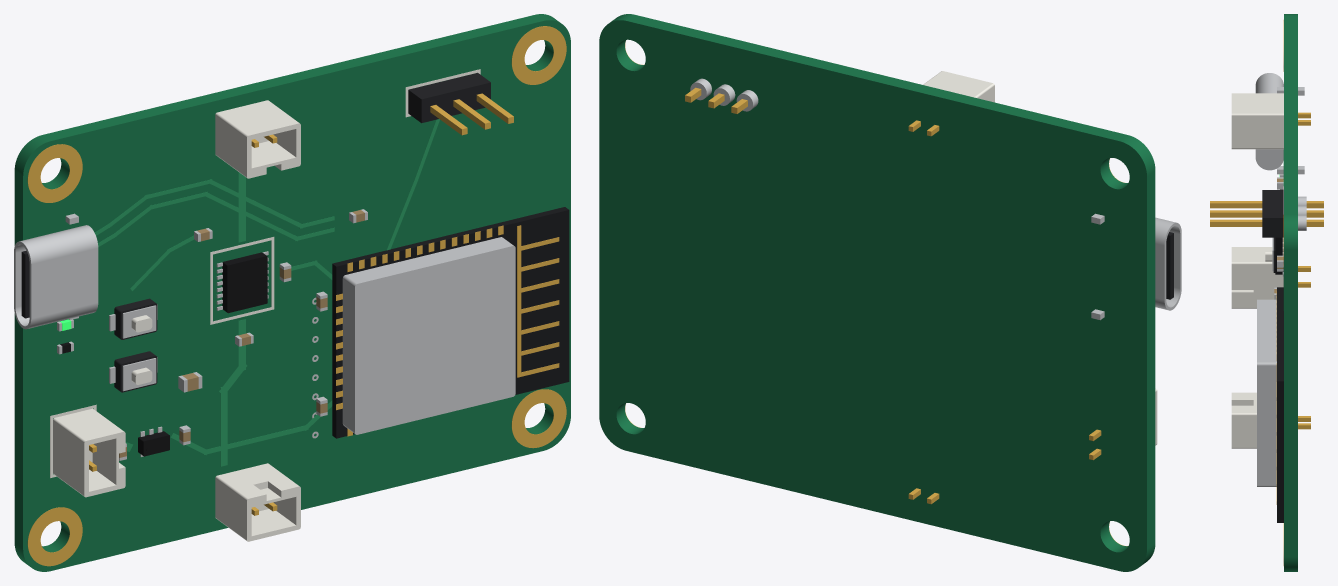
The model's file is main-board.glb.
3 renders of one model, left to right at view 1: azimuth 30°, elevation 25°; view 2: azimuth 150°, elevation 25°; view 3: azimuth 270°, elevation 25°, orthographic. The views are drawn at different scales.
Parts seen in each view (by area): view 1: main-board; view 2: main-board; view 3: main-board.
Part boxes in pixels (x1,y1,x2,y2): main-board: (14,14,570,571); main-board: (599,14,1181,571); main-board: (1210,14,1323,571).
Size of the model in its own units: 61 by 45 by 13.1.
